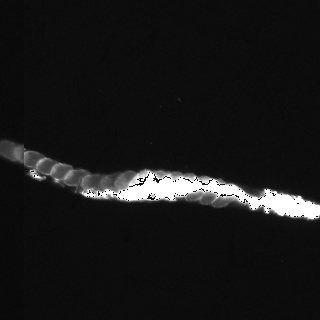embryo: (100, 172, 127, 190), (62, 169, 90, 186), (81, 174, 112, 189), (49, 162, 73, 181), (114, 170, 136, 190), (35, 157, 58, 175), (0, 140, 18, 161), (24, 150, 44, 168), (131, 169, 151, 187), (211, 196, 235, 207), (199, 192, 216, 205), (13, 144, 24, 163), (184, 191, 203, 201), (153, 170, 170, 180), (168, 171, 183, 180), (182, 173, 196, 181)
